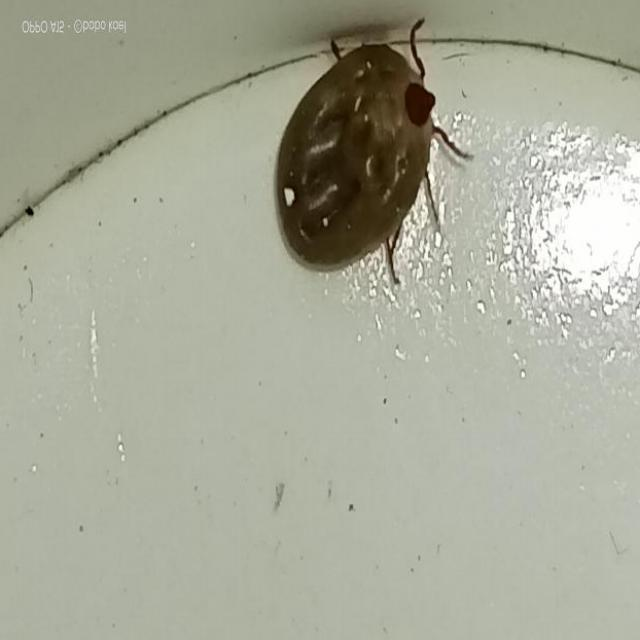Rhipicephalus Sanguineus-F-Fed: (274, 17, 463, 293)
